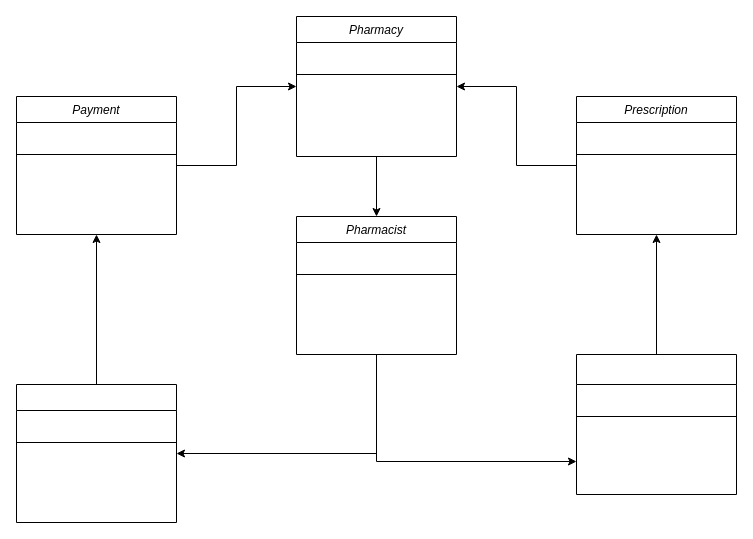
The diagram is 753 pixels wide and 539 high, and some of its shapes have lost their labels. The shapes that lost their labels are listed below. From the top down, each one's centre as x and y in pixels, then its label:
(x=656, y=424): Doctor
(x=96, y=453): Patient
